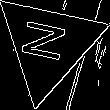N_E: (20, 20, 76, 70)
